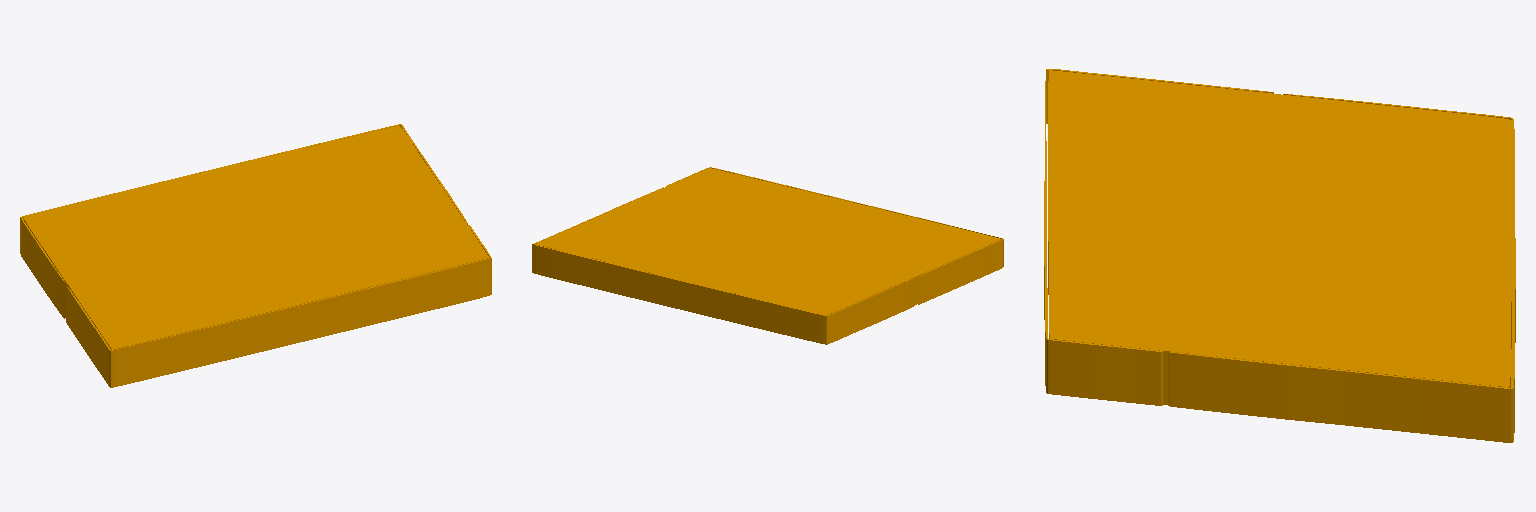
The robot description file, URDF, robot "parallelogram.urdf":
<?xml version="1.0" encoding="utf-8"?>
<robot name="parallelogram.urdf">
  <link name="baseLink">
    <contact>
      <lateral_friction value="0.5"/>
      <rolling_friction value="0.001"/>
      <spinning_friction value="0.001"/>
    </contact>
    <inertial>
      <origin rpy="0 0 0" xyz="0 0 0"/>
      <mass value="0.05"/>
      <inertia ixx="1" ixy="0" ixz="0" iyy="1" iyz="0" izz="1"/>
    </inertial>
    <visual>
      <origin rpy="0 0 0" xyz="0 0 0"/>
      <geometry>
        <mesh filename="parallelogram.obj" scale="0.2 0.2 0.1"/> <!-- Scale x and y by 3.5, z by 1.0 -->
      </geometry>
    </visual>
    <collision>
      <origin rpy="0 0 0" xyz="0 0 0"/>
      <geometry>
        <mesh filename="parallelogram.obj" scale="0.2 0.2 0.1"/> <!-- Scale x and y by 3.5, z by 1.0 -->
      </geometry>
    </collision>
  </link>
</robot>

--- What the picture shows (computed from the rendered views, not written in the file) ---
The picture shows the robot from 3 angles, left to right: view 1: azimuth 30°, elevation 25°; view 2: azimuth 150°, elevation 25°; view 3: azimuth 270°, elevation 25°; orthographic projection.
Robot: parallelogram.urdf — 1 links, 0 joints (none); root link baseLink; default pose: every joint at zero.
Links seen in each view (by area): view 1: baseLink; view 2: baseLink; view 3: baseLink.
Link boxes in pixels (bbox=[...]): baseLink: bbox=[20, 124, 491, 387]; baseLink: bbox=[532, 167, 1003, 344]; baseLink: bbox=[1044, 69, 1515, 442].
Bounding box of the posed robot: 0.5004 × 0.3105 × 0.0394 m (x, y, z).
Meshes: 1 distinct files referenced, 1 mesh visuals loaded (1 OBJ).